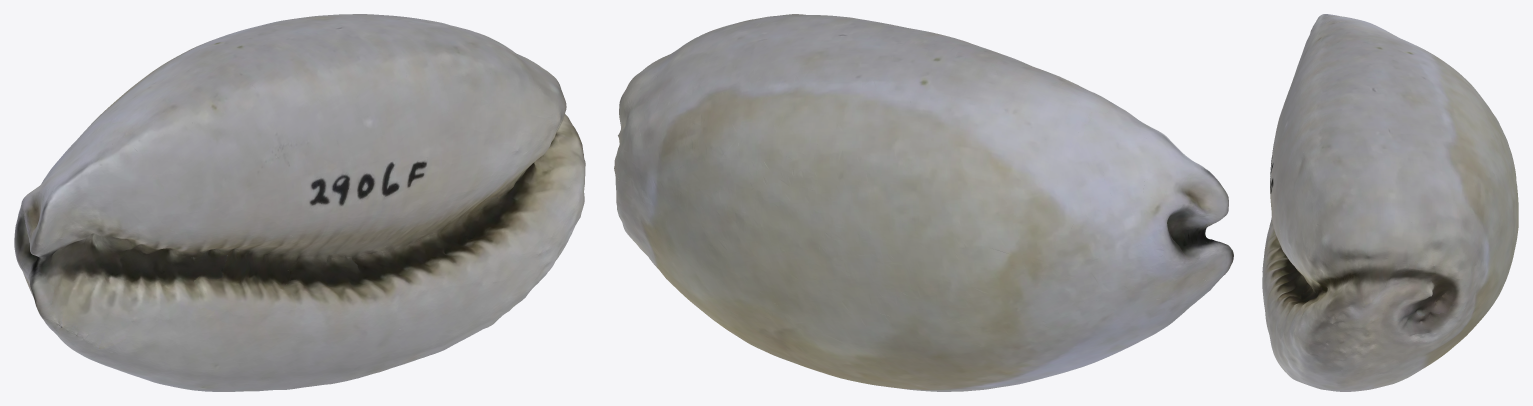
Rendered from cowrie.glb.
3 views of the same model, side by side, from view 1: azimuth 30°, elevation 25°; view 2: azimuth 150°, elevation 25°; view 3: azimuth 270°, elevation 25° (orthographic). The views are drawn at different scales.
Parts seen in each view (by area): view 1: Object_2; view 2: Object_2; view 3: Object_2.
Boxes of the visible parts, box(x1,y1,x2,y2) form: Object_2: box(14, 14, 585, 391); Object_2: box(614, 14, 1233, 391); Object_2: box(1262, 14, 1518, 391).
Size of the model in its own units: 1.92 by 1.08 by 0.8878.
1 material, 1 textured.
